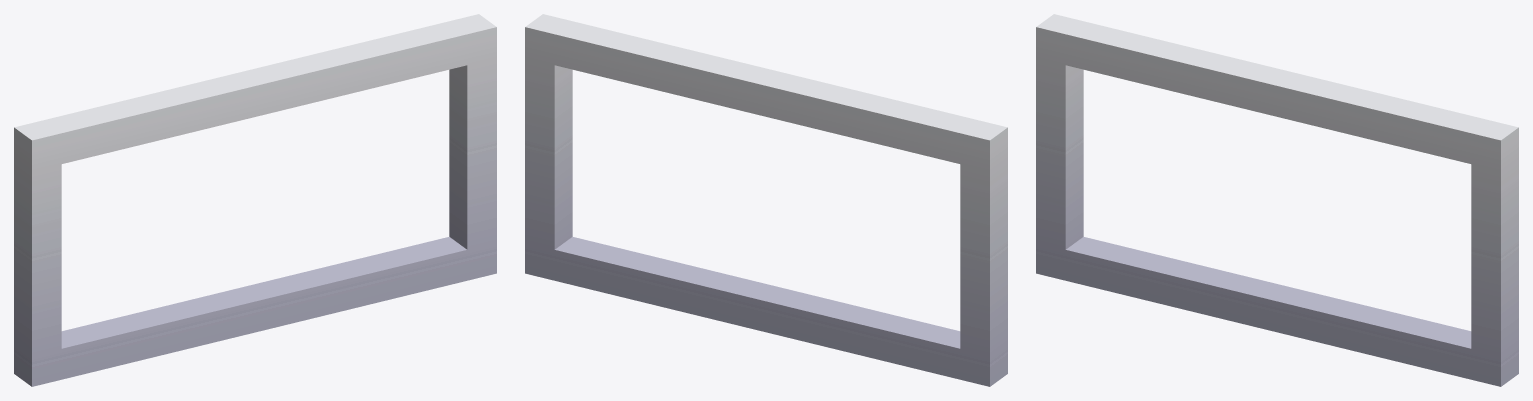
File: window-white-wide.glb
3 views of the same model, side by side, from view 1: azimuth 30°, elevation 25°; view 2: azimuth 150°, elevation 25°; view 3: azimuth 330°, elevation 25° (orthographic).
Visible parts, largest first — view 1: window-white-wide; view 2: window-white-wide; view 3: window-white-wide.
Boxes of the visible parts, <box> form: window-white-wide: <box>14,14,496,386</box>; window-white-wide: <box>525,14,1007,386</box>; window-white-wide: <box>1036,14,1518,386</box>.
Bounding box in the file's own units: 0.75 × 0.38 × 0.05.
1 material, 1 textured.
